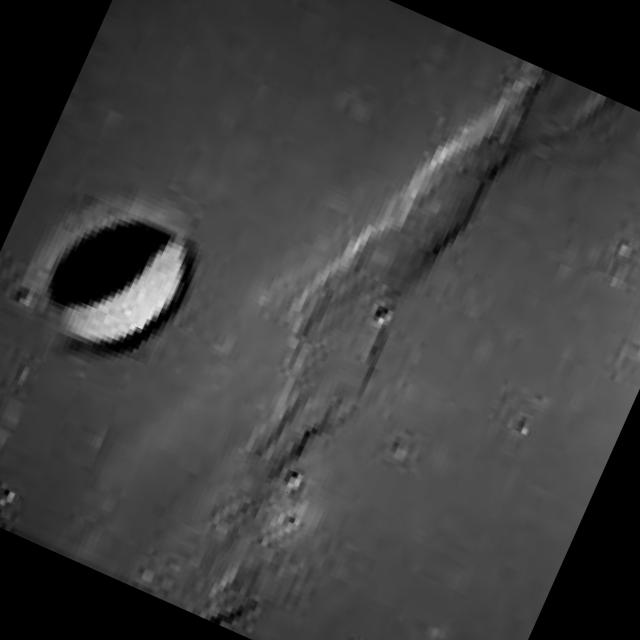crater: (32, 194, 200, 366)
